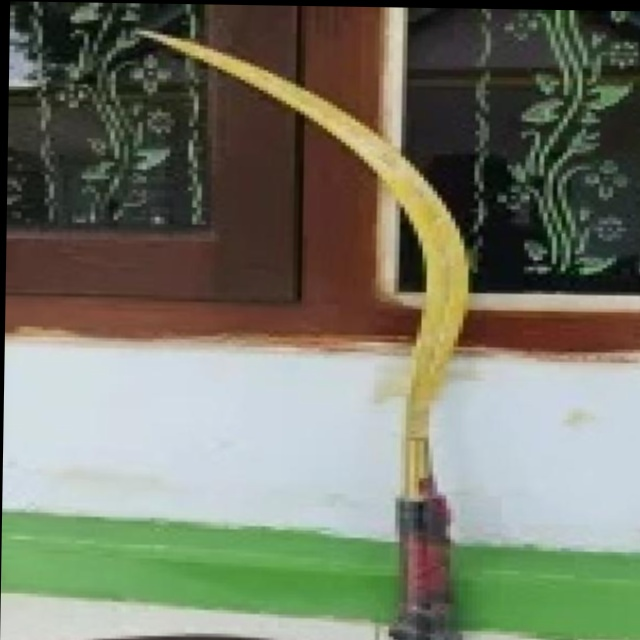Sharp-Object: (124, 27, 507, 640)
